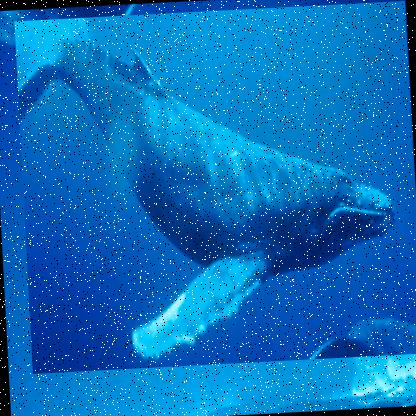blue_whale: (14, 0, 415, 375)
